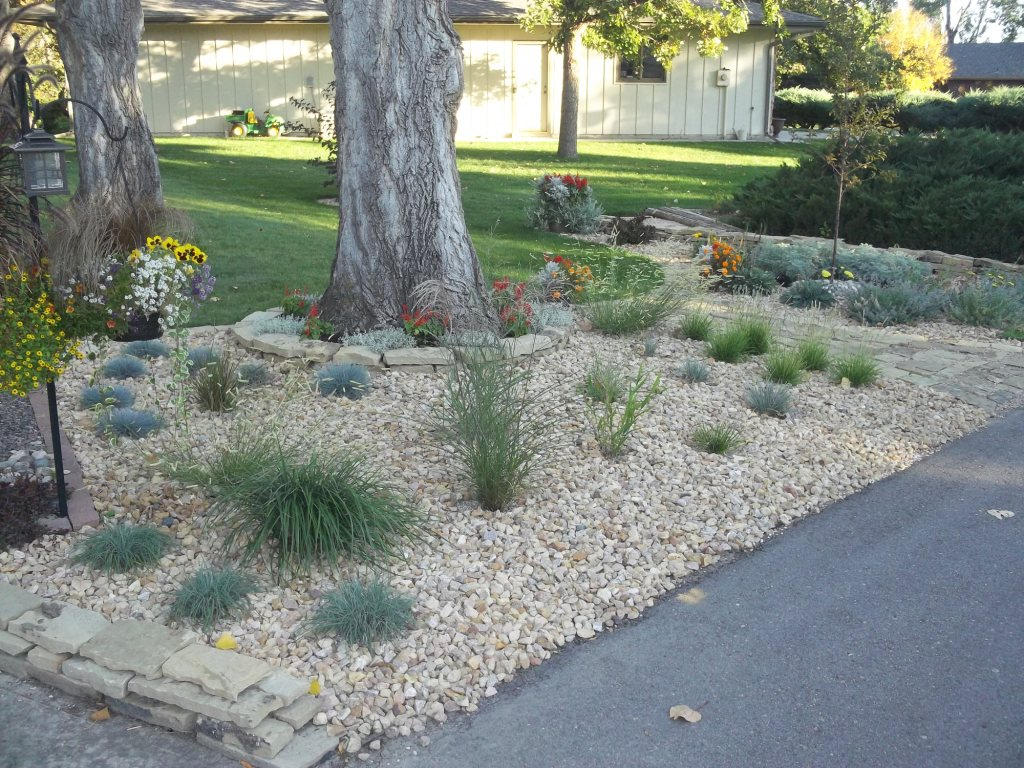grass: (468, 141, 788, 298), (167, 137, 338, 327)
rock: (27, 333, 983, 725)
tree: (310, 4, 490, 348), (61, 3, 166, 249), (557, 32, 578, 160)
